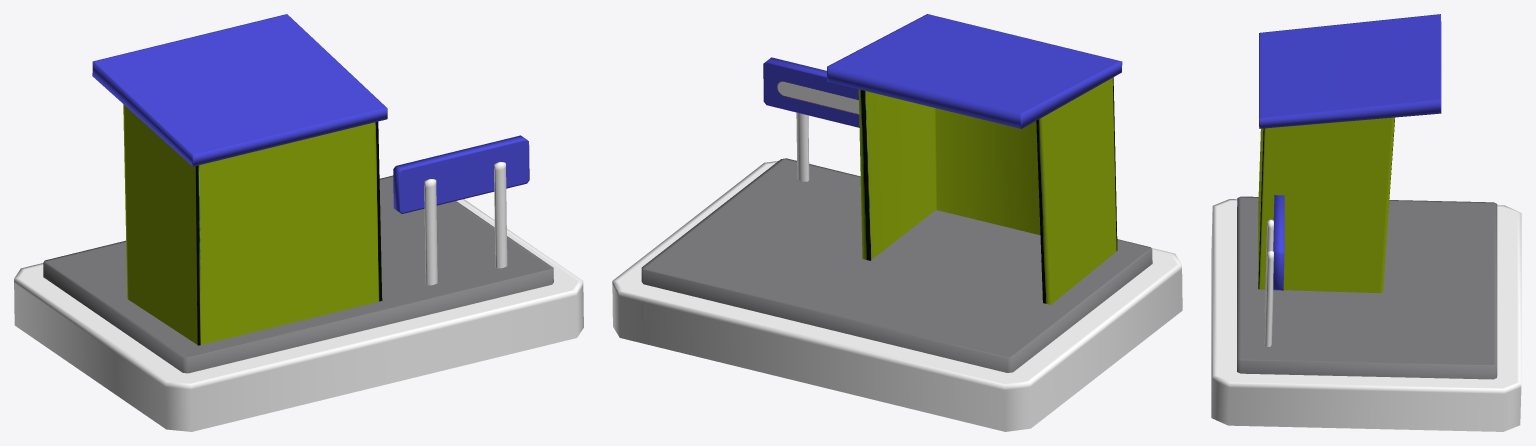
File: SM_Platform.fbx
3 renders of one model, left to right at view 1: azimuth 30°, elevation 25°; view 2: azimuth 150°, elevation 25°; view 3: azimuth 270°, elevation 25°, orthographic. The views are drawn at different scales.
Visible parts, largest first — view 1: SM_Platform4, SM_Platform, SM_Platform5, SM_Platform3, SM_Platform1, SM_Platform2; view 2: SM_Platform3, SM_Platform, SM_Platform4, SM_Platform5, SM_Platform1, SM_Platform2; view 3: SM_Platform3, SM_Platform, SM_Platform4, SM_Platform5, SM_Platform1, SM_Platform2.
Part boxes in pixels (box(x1,y1,x2,y2)): SM_Platform4: box(123, 104, 382, 345); SM_Platform: box(14, 199, 583, 431); SM_Platform5: box(92, 14, 387, 166); SM_Platform3: box(43, 175, 553, 373); SM_Platform1: box(393, 135, 529, 213); SM_Platform2: box(424, 162, 507, 285); SM_Platform3: box(641, 158, 1152, 372); SM_Platform: box(612, 161, 1182, 431); SM_Platform4: box(858, 77, 1117, 304); SM_Platform5: box(827, 14, 1122, 128); SM_Platform1: box(763, 57, 859, 127); SM_Platform2: box(796, 112, 809, 181); SM_Platform3: box(1237, 196, 1497, 379); SM_Platform: box(1211, 199, 1521, 431); SM_Platform4: box(1258, 117, 1395, 293); SM_Platform5: box(1259, 14, 1441, 128); SM_Platform1: box(1273, 195, 1284, 290); SM_Platform2: box(1264, 219, 1273, 346).
Bounding box in the file's own units: 100 × 63.84 × 70.92.
